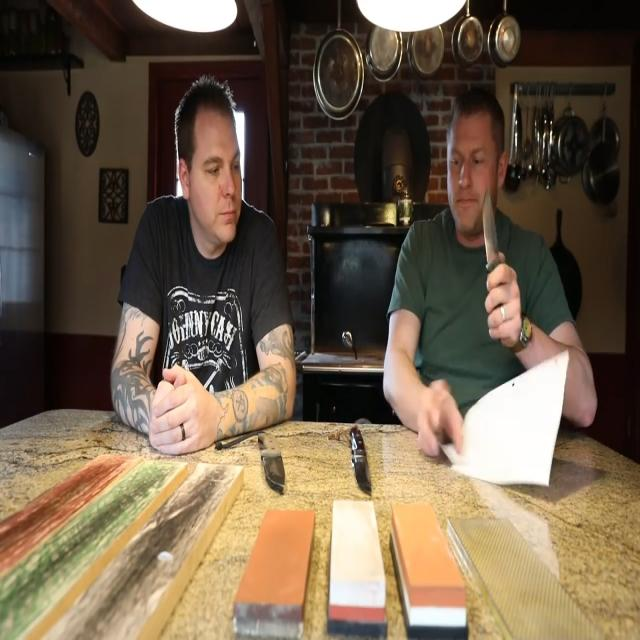knife: (257, 427, 289, 494), (480, 185, 506, 264), (350, 422, 376, 499)
